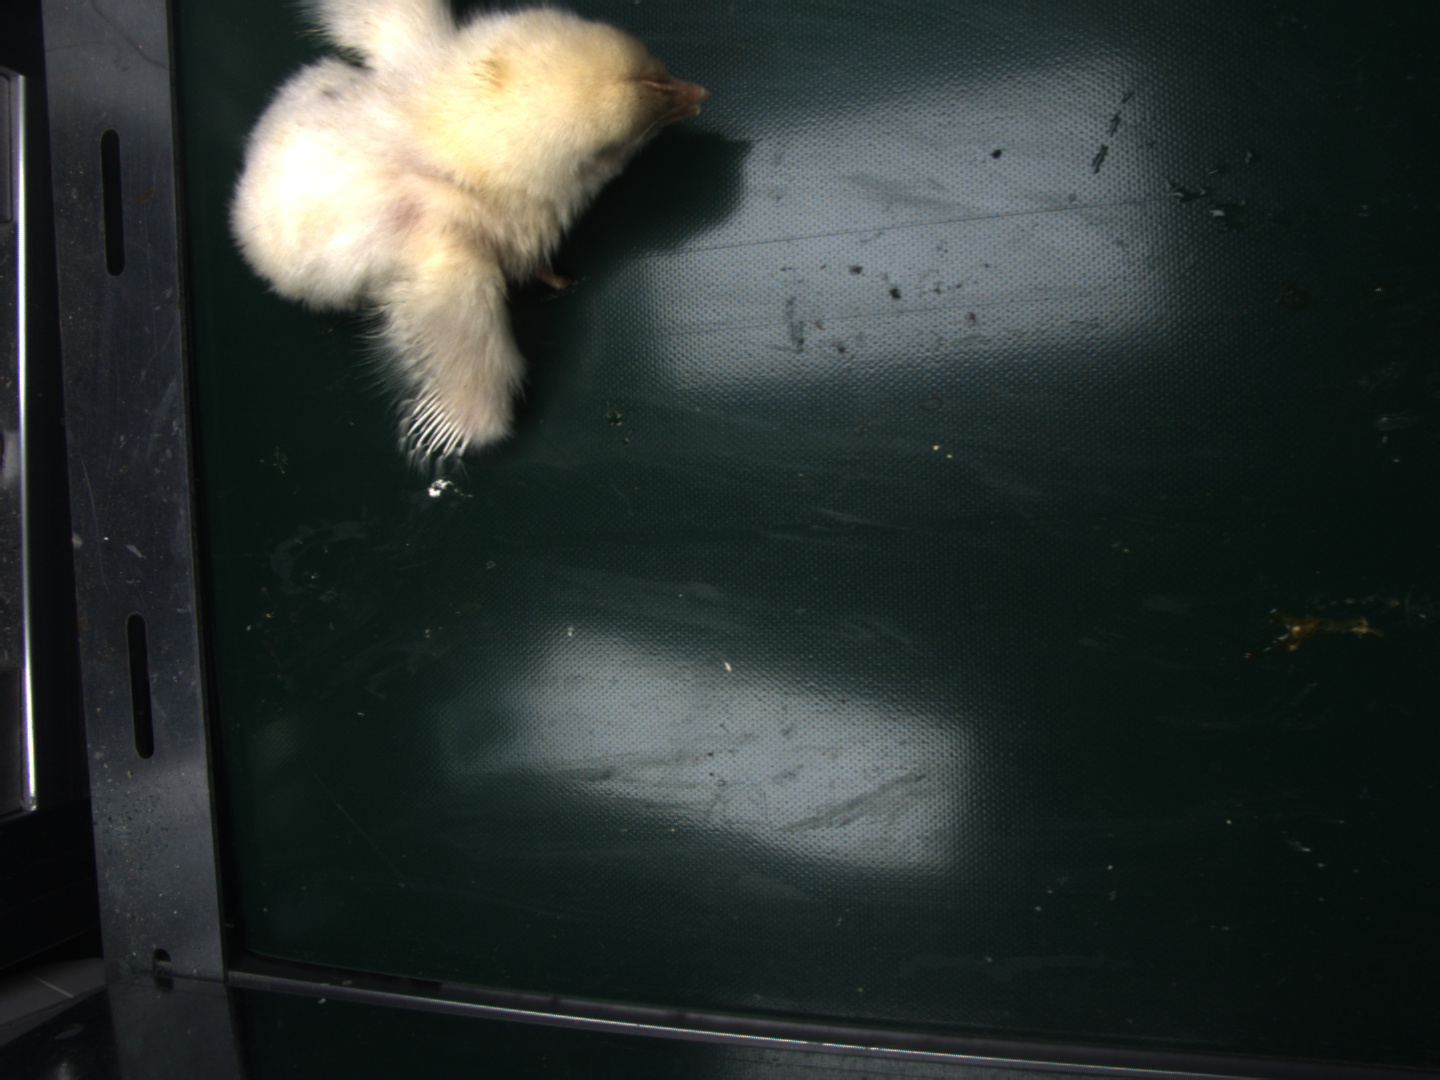male: (407, 388, 472, 455)
